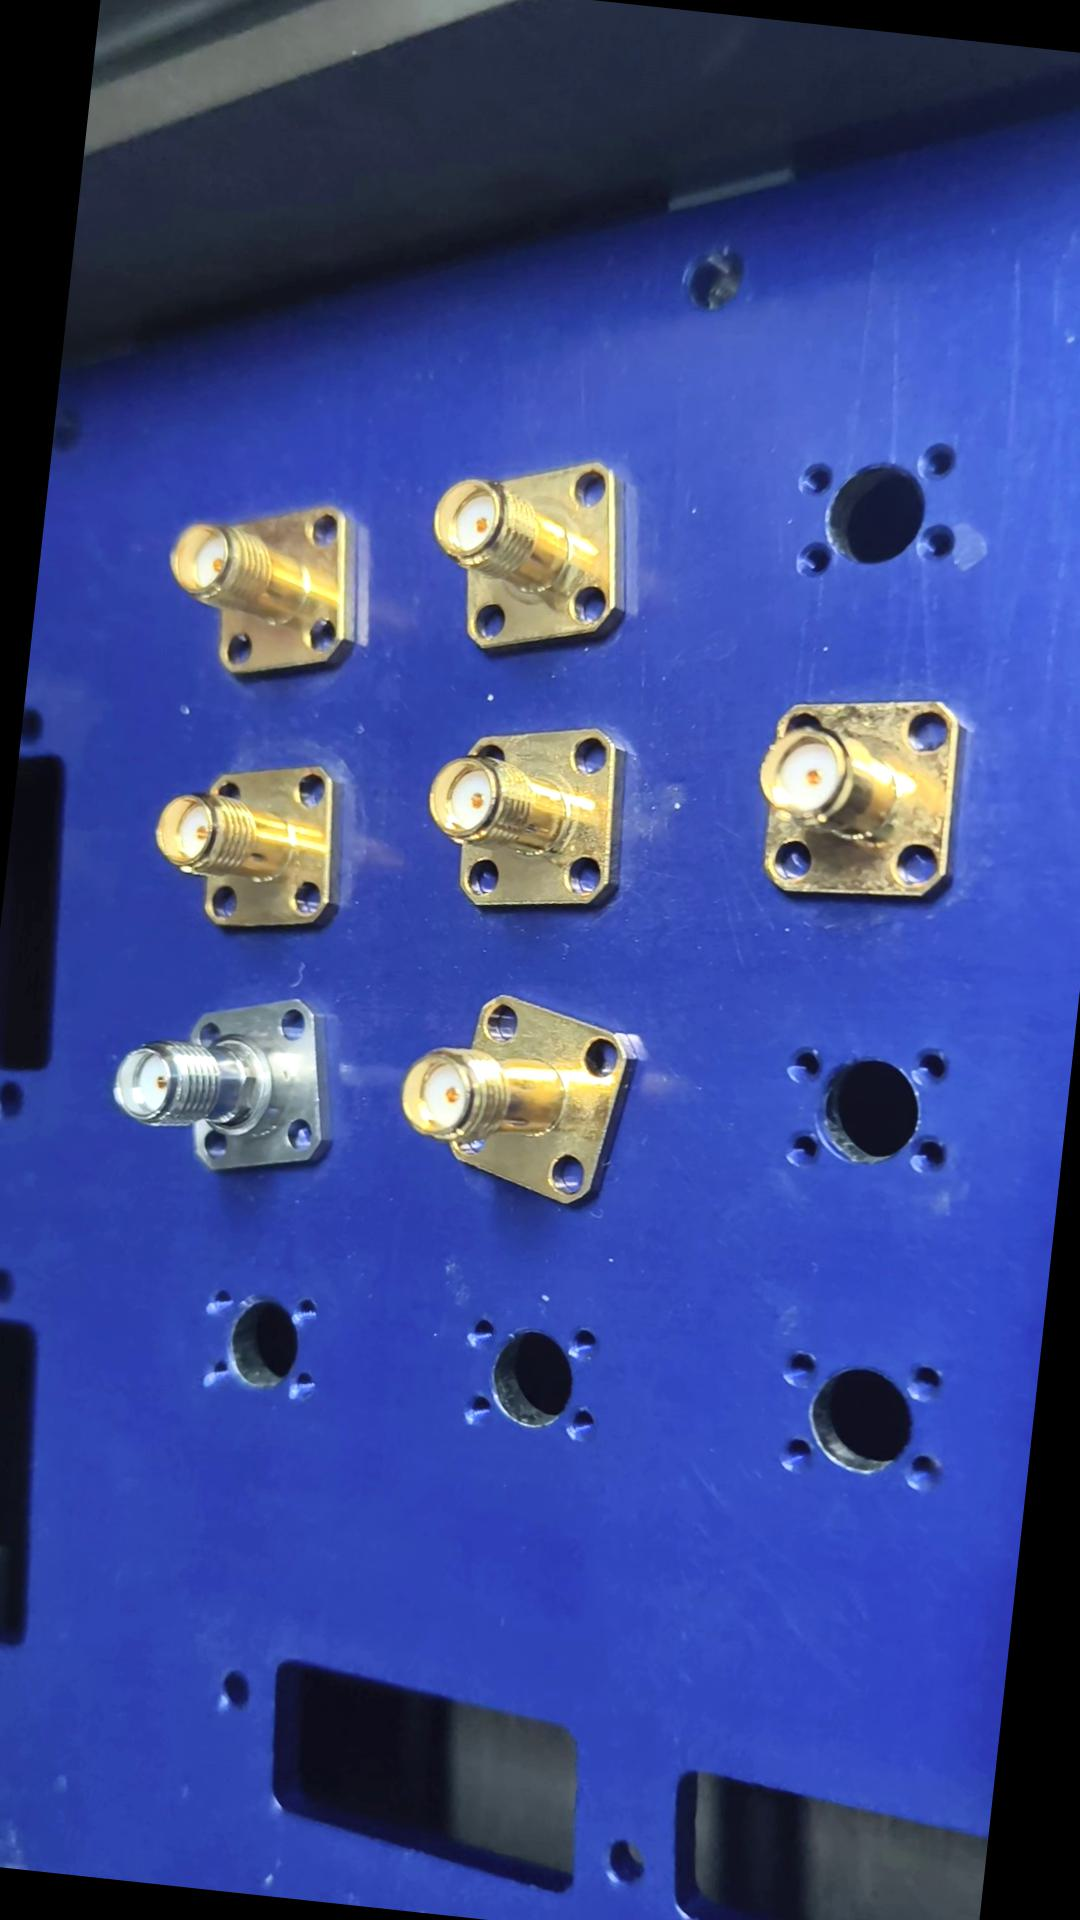SMA: (392, 982, 646, 1212), (742, 682, 976, 914), (102, 977, 351, 1185), (411, 711, 645, 926), (429, 443, 650, 667), (156, 492, 375, 690), (144, 744, 356, 944)
